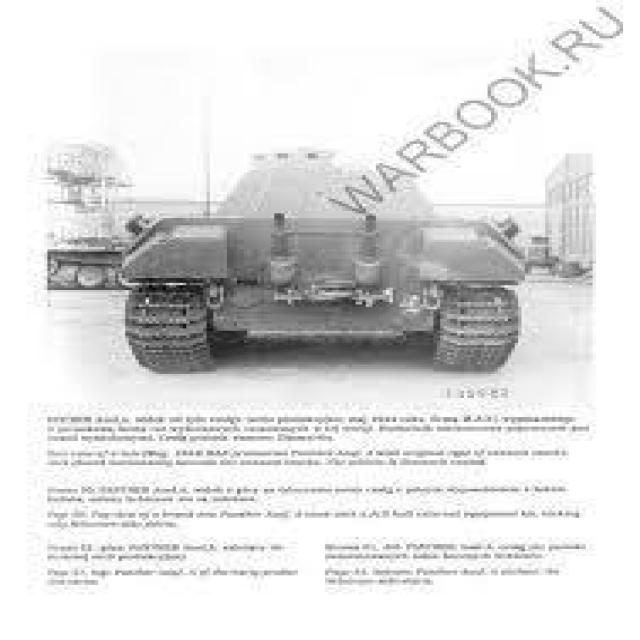Tanks: (118, 138, 525, 377)
